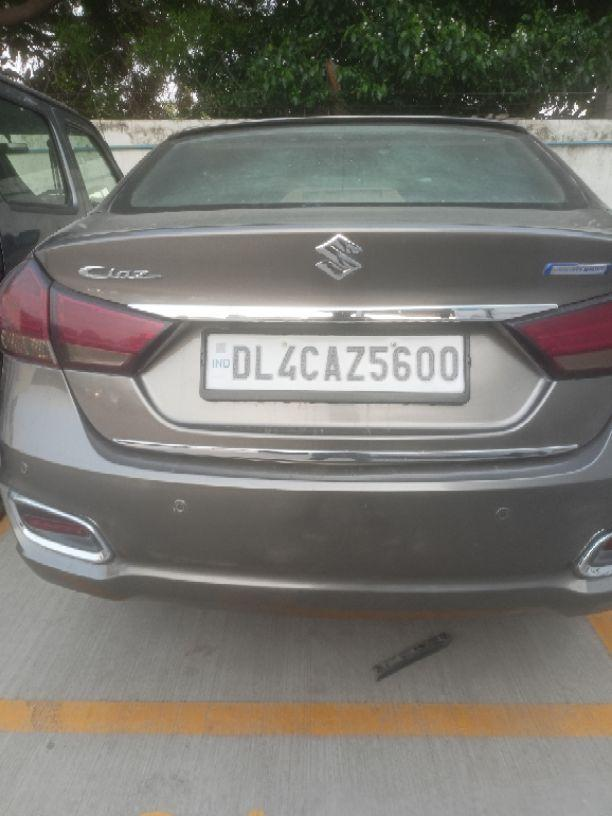license_plate: (198, 328, 470, 403)
